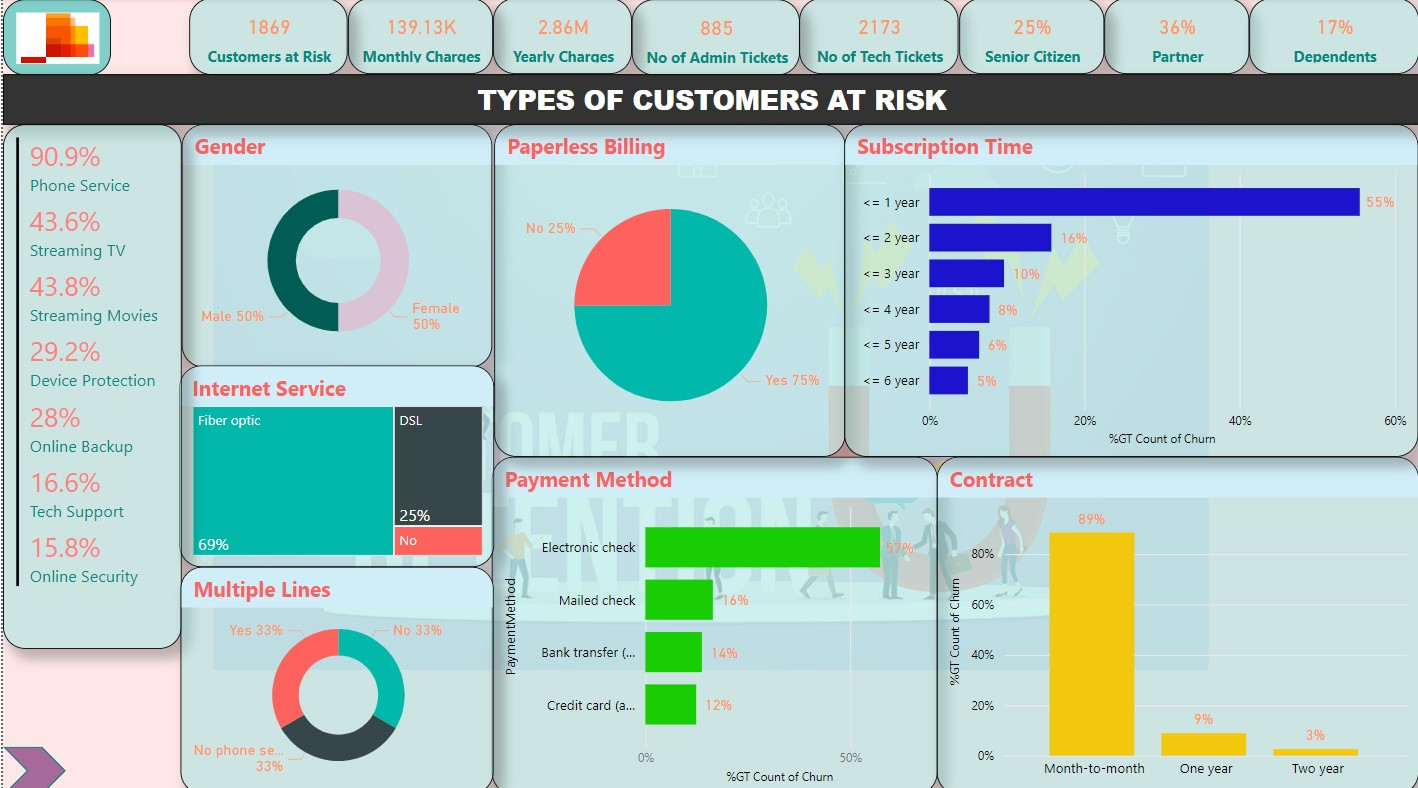

What the dashboard file says about the page in this screenshot:
{"tool":"powerbi","page":{"name":"Customers at Risk","canvas":[1280,720],"ordinal":1},"visuals":[{"type":"card","fields":{"Values":["Sum(01 Churn-Dataset.numTechTickets)"]},"box":[720.4,0,144.1,68.6],"z":0},{"type":"card","fields":{"Values":["Sum(01 Churn-Dataset.numAdminTickets)"]},"box":[568.2,1.2,152.2,68.6],"z":1000},{"type":"card","fields":{"Values":["Sum(01 Churn-Dataset.TotalCharges)"]},"box":[442.7,0,125.5,68.6],"z":2000},{"type":"card","fields":{"Values":["Sum(01 Churn-Dataset.MonthlyCharges)"]},"box":[311.4,0,131.3,68.6],"z":3000},{"type":"image","box":[0,1.2,97.6,68.6],"z":4000},{"type":"donutChart","title":"Gender","fields":{"Category":["01 Churn-Dataset.gender"],"Y":["Measure Table.Churn %"]},"box":[161.5,113.9,281.2,219.6],"z":5000},{"type":"clusteredBarChart","title":"Payment Method","fields":{"Category":["01 Churn-Dataset.PaymentMethod"],"Y":["CountNonNull(01 Churn-Dataset.Churn)"]},"box":[441.5,414.8,403.2,305.6],"z":6000},{"type":"clusteredColumnChart","title":"Contract","fields":{"Category":["01 Churn-Dataset.Contract"],"Y":["CountNonNull(01 Churn-Dataset.Churn)"]},"box":[844.7,414.8,435.7,305.6],"z":7000},{"type":"pieChart","title":"Paperless Billing","fields":{"Category":["01 Churn-Dataset.PaperlessBilling"],"Y":["CountNonNull(01 Churn-Dataset.PaperlessBilling)"]},"box":[443.9,113.9,317.2,300.9],"z":8000},{"type":"barChart","title":"Subscription Time","fields":{"Category":["01 Churn-Dataset.Subscription Time"],"Y":["CountNonNull(01 Churn-Dataset.Churn)"]},"box":[761.1,113.9,519.4,300.9],"z":9000},{"type":"textbox","box":[0,68.6,1280.5,45.3],"z":10000},{"type":"treemap","title":"Internet Service","fields":{"Group":["01 Churn-Dataset.InternetService"],"Values":["CountNonNull(01 Churn-Dataset.InternetService)"]},"box":[159.2,332.3,284.7,182.4],"z":11000},{"type":"multiRowCard","fields":{"Values":["Measure Table.Phone Service","Measure Table.Streaming TV %","Measure Table.Streaming Movies %","Measure Table.Device Protection %","Measure Table.Online Backup %","Measure Table.Tech Support","Measure Table.Online Security %"]},"box":[0,113.9,161.5,474.1],"z":12000},{"type":"card","fields":{"Values":["Measure Table.Partner"]},"box":[995.8,0,131.3,68.6],"z":13000},{"type":"donutChart","title":"Multiple Lines","fields":{"Y":["Measure Table.Churn %"],"Category":["01 Churn-Dataset.MultipleLines"]},"box":[160.3,514.7,283.5,205.7],"z":14000},{"type":"card","fields":{"Values":["Measure Table.Senior Citizen"]},"box":[864.5,0,131.3,68.6],"z":15000},{"type":"card","fields":{"Values":["Measure Table.Dependents"]},"box":[1127.1,0,153.4,68.6],"z":16000},{"type":"card","fields":{"Values":["Measure Table.Total Customers"]},"box":[168.5,0,142.9,69.7],"z":17000},{"type":"shape","box":[0,677.4,56.9,43],"z":18000}]}

Visuals, with their boxes in screenshot pixels (x1, y1, x2, y2):
card - Sum(01 Churn-Dataset.numTechTickets): (801,0,962,69)
card - Sum(01 Churn-Dataset.numAdminTickets): (631,0,801,71)
card - Sum(01 Churn-Dataset.TotalCharges): (491,0,631,69)
card - Sum(01 Churn-Dataset.MonthlyCharges): (344,0,491,69)
image: (0,0,105,71)
"Gender" donutChart: (177,120,491,365)
"Payment Method" clusteredBarChart: (489,456,940,787)
"Contract" clusteredColumnChart: (940,456,1417,787)
"Paperless Billing" pieChart: (492,120,846,456)
"Subscription Time" barChart: (846,120,1417,456)
textbox: (0,69,1417,120)
"Internet Service" treemap: (174,364,492,567)
multiRowCard - Measure Table.Phone Service x Measure Table.Streaming TV %: (0,120,177,649)
card - Measure Table.Partner: (1109,0,1255,69)
"Multiple Lines" donutChart: (175,567,492,787)
card - Measure Table.Senior Citizen: (962,0,1109,69)
card - Measure Table.Dependents: (1255,0,1417,69)
card - Measure Table.Total Customers: (185,0,344,70)
shape: (0,749,60,787)
